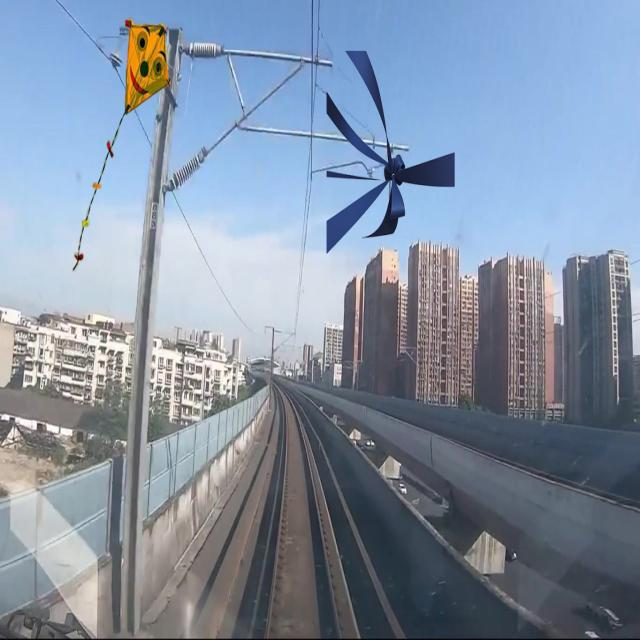floating object: (326, 42, 465, 258), (72, 18, 166, 260)
